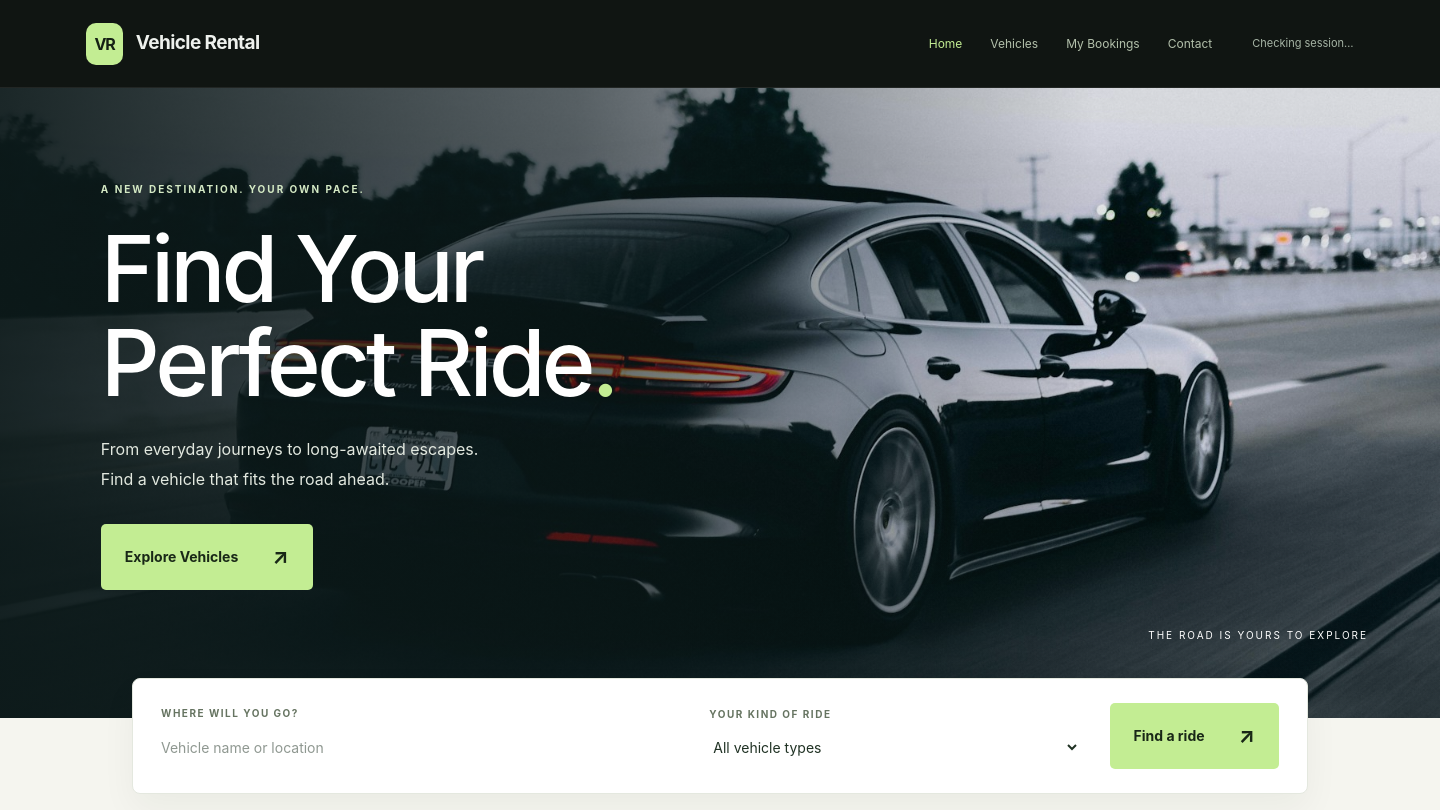
Scenario: submits search to the catalog destination with search preserved
The image size is (1440, 810).
Step 1. Type "Galle" into the field labelled "WHERE WILL YOU GO?" → point(420, 748), box 161,730 -> 679,765
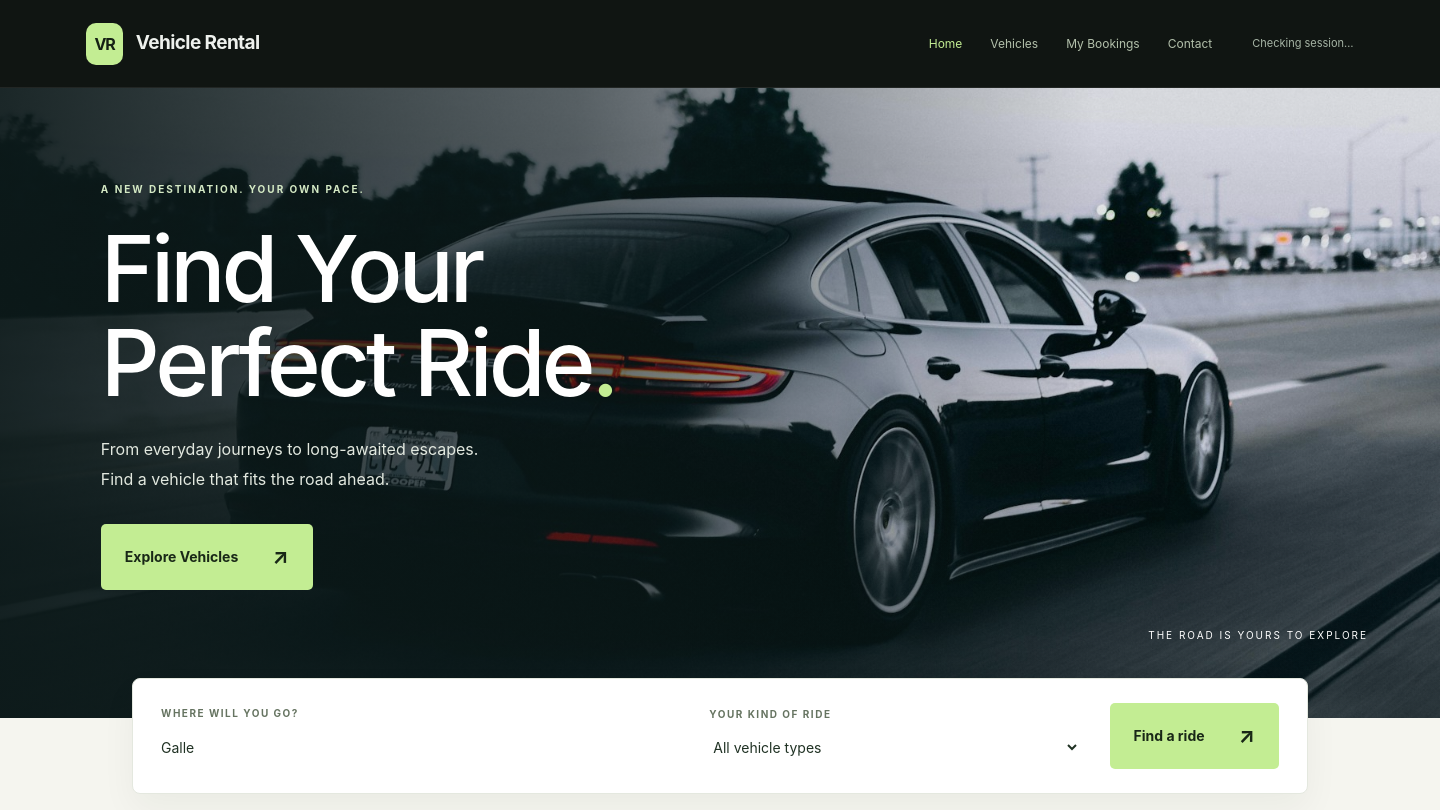
Step 2. Select "Vans" in the dropdown labelled "YOUR KIND OF RIDE" → point(894, 748), box 709,731 -> 1080,764
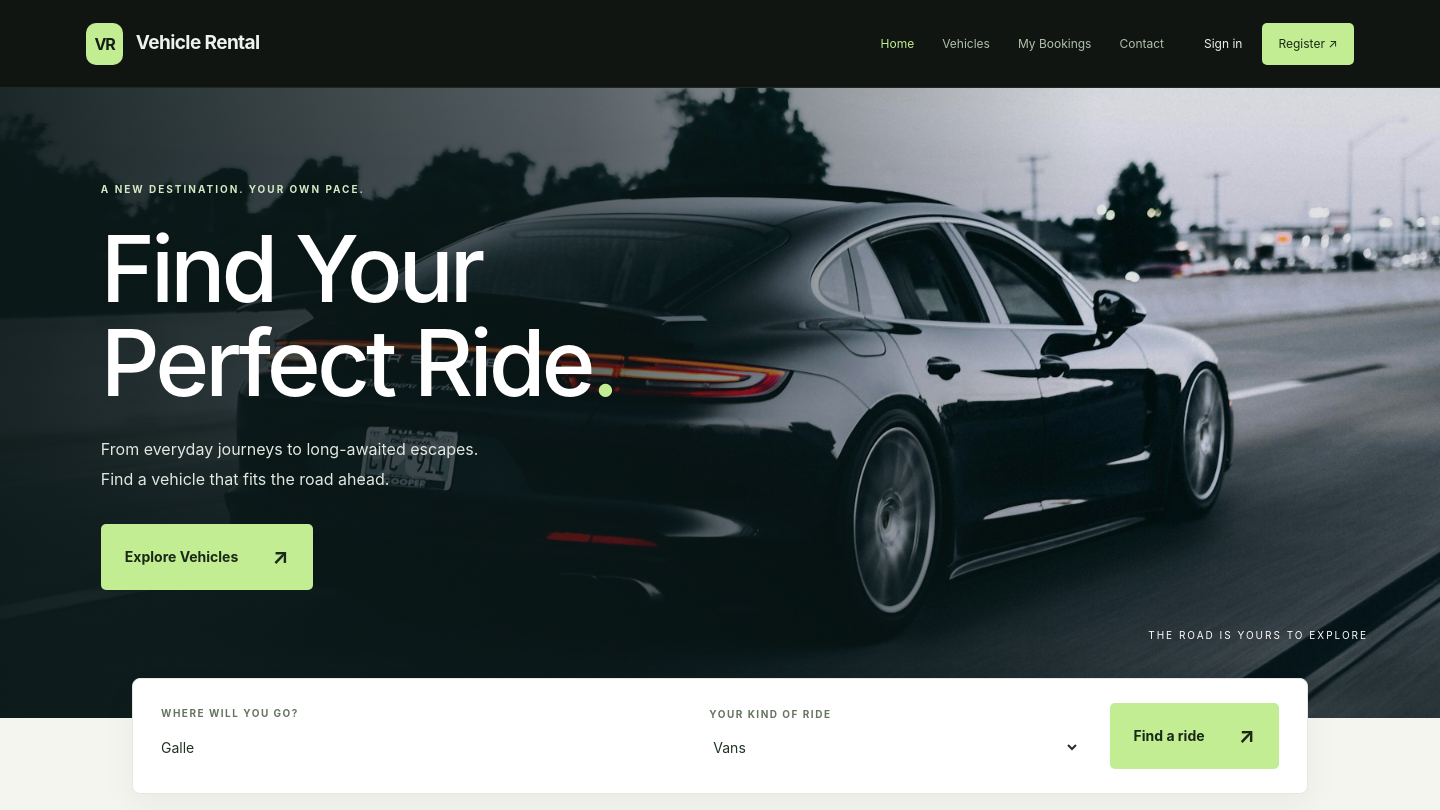
Step 3. Click the button "Find a ride ↗" → point(1194, 736), box 1110,703 -> 1279,768
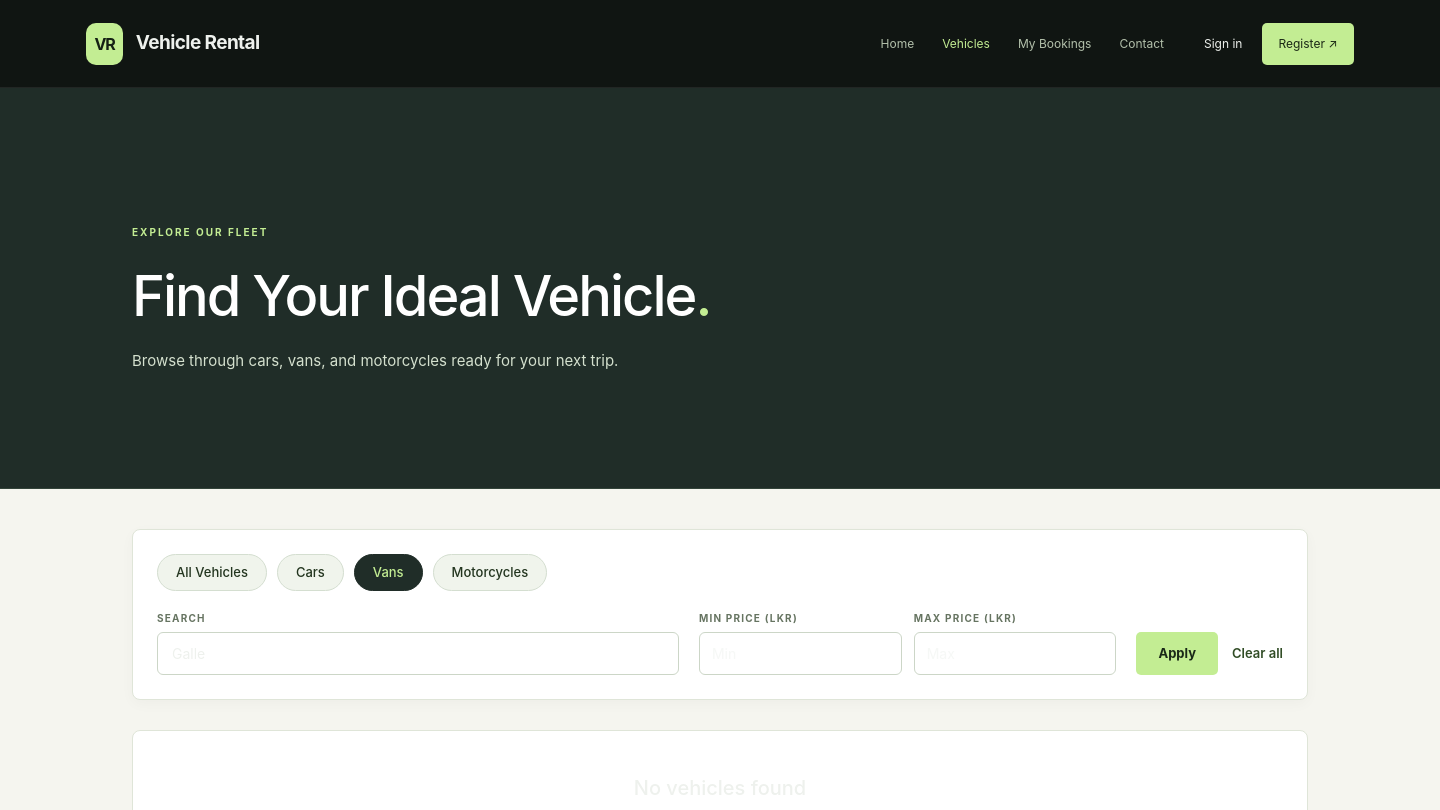
Expected: the heading "Find Your Ideal Vehicle." is shown, 132,262 -> 710,330
